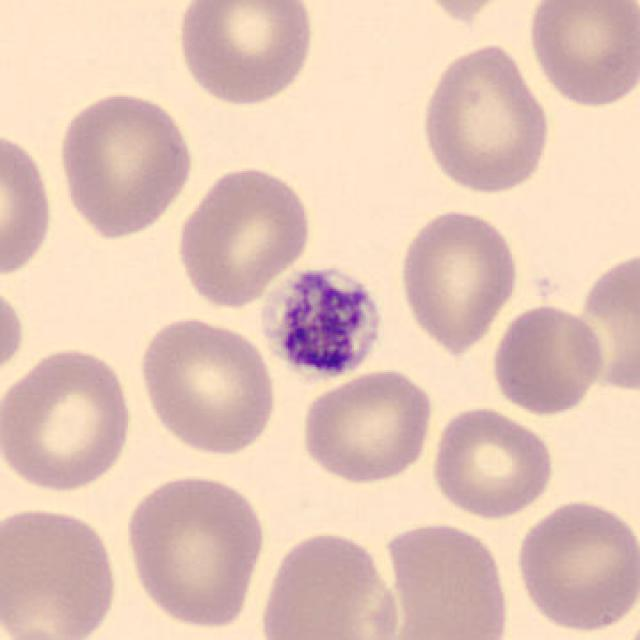Platelets: (260, 261, 388, 386)
RBC: (121, 469, 270, 629), (54, 86, 198, 240), (416, 38, 555, 195), (172, 160, 316, 308), (133, 312, 279, 457), (2, 342, 137, 495), (394, 204, 522, 354), (510, 494, 638, 634), (0, 500, 122, 640), (254, 527, 404, 640), (378, 518, 514, 640), (297, 366, 435, 486), (172, 0, 318, 108), (427, 402, 558, 522), (487, 300, 608, 416), (522, 0, 638, 109), (574, 243, 638, 397), (0, 123, 57, 284), (0, 275, 28, 388), (400, 0, 524, 23)
